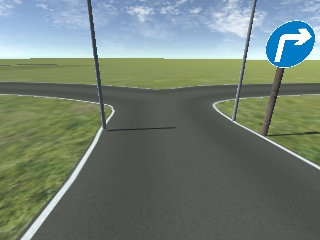right: (267, 19, 315, 67)
